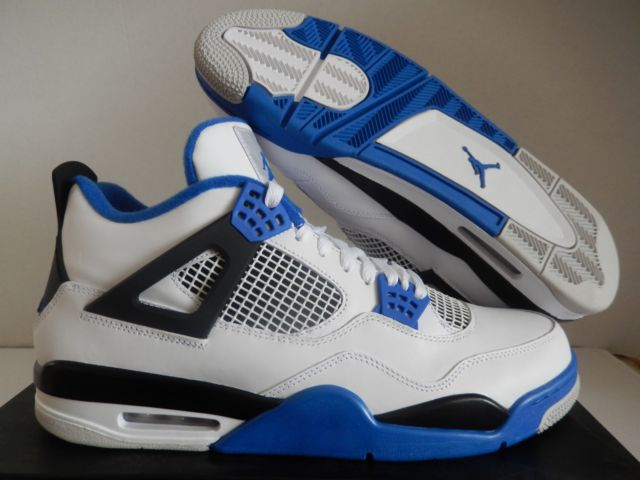Air Jordan 4 Motorsport: (19, 109, 587, 462)
